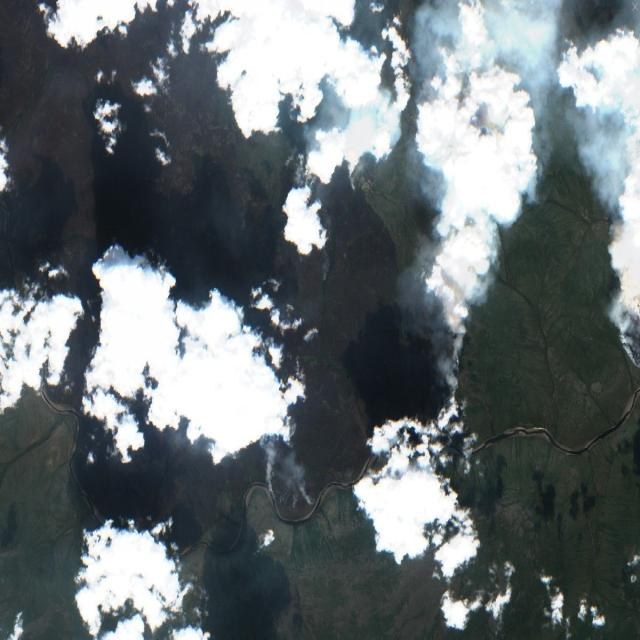fire: (412, 251, 480, 420), (282, 124, 356, 192), (606, 262, 640, 385), (258, 463, 322, 521)
